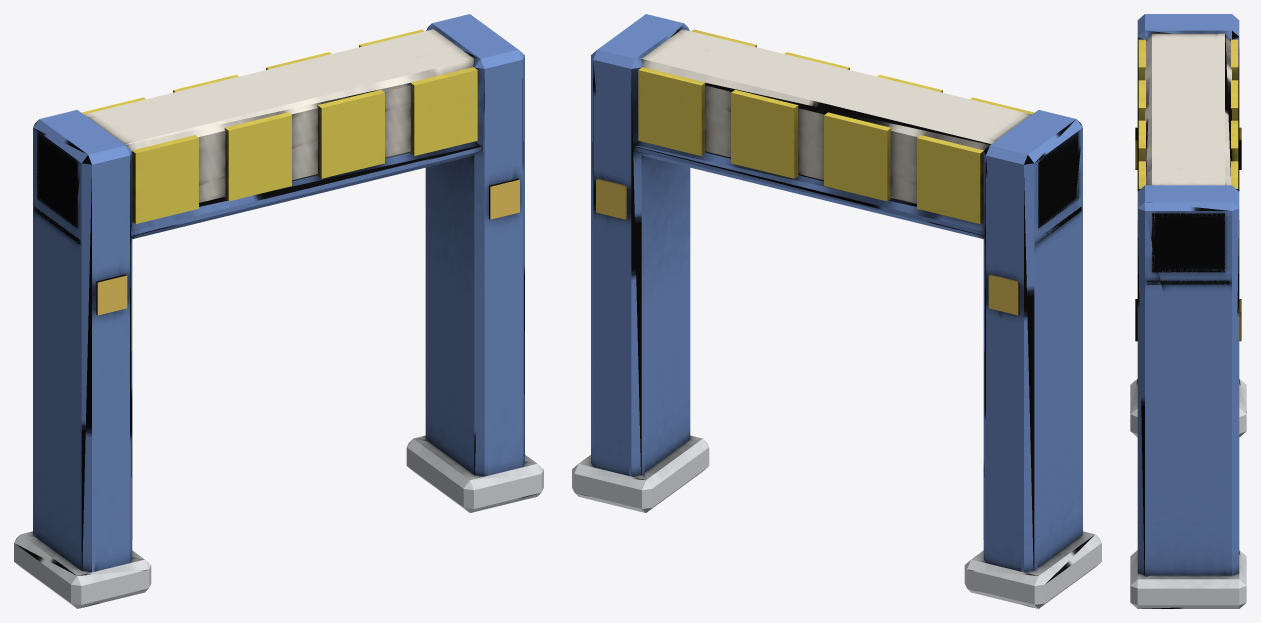
The model's file is slide_gate.obj.
3 views of the same model, side by side, from view 1: azimuth 30°, elevation 25°; view 2: azimuth 150°, elevation 25°; view 3: azimuth 270°, elevation 25° (orthographic). The views are drawn at different scales.
Parts seen in each view (by area): view 1: post_l, post_r, crossbar, crossbar_lip, base_r, base_l, chevron_3_f, chevron_1_f, chevron_2_f, chevron_0_f, post_light_l, post_light_r; view 2: post_l, post_r, crossbar, crossbar_lip, base_r, base_l, chevron_3_b, chevron_1_b, chevron_2_b, chevron_0_b, post_light_l, post_light_r; view 3: post_r, crossbar, base_r, post_l, base_l, crossbar_lip, chevron_0_b, chevron_0_f, chevron_2_b, chevron_2_f, chevron_1_b, chevron_1_f (+4 smaller).
Boxes of the visible parts, <box> form: post_l: <box>33,110,132,572</box>; post_r: <box>425,14,524,476</box>; crossbar: <box>37,29,474,228</box>; crossbar_lip: <box>34,141,481,244</box>; base_r: <box>406,435,543,512</box>; base_l: <box>14,531,151,608</box>; chevron_3_f: <box>410,67,477,155</box>; chevron_1_f: <box>224,112,291,201</box>; chevron_2_f: <box>317,89,384,178</box>; chevron_0_f: <box>132,135,198,223</box>; post_light_l: <box>96,274,127,315</box>; post_light_r: <box>489,178,519,219</box>; post_l: <box>983,110,1082,572</box>; post_r: <box>591,14,690,476</box>; crossbar: <box>641,29,1078,228</box>; crossbar_lip: <box>634,141,1081,238</box>; base_r: <box>572,435,709,512</box>; base_l: <box>964,531,1101,608</box>; chevron_3_b: <box>638,67,705,155</box>; chevron_1_b: <box>824,112,891,201</box>; chevron_2_b: <box>731,89,798,178</box>; chevron_0_b: <box>917,135,983,223</box>; post_light_l: <box>988,274,1019,315</box>; post_light_r: <box>596,178,626,219</box>; post_r: <box>1137,185,1239,575</box>; crossbar: <box>1145,33,1231,272</box>; base_r: <box>1130,550,1246,608</box>; post_l: <box>1137,14,1239,191</box>; base_l: <box>1130,379,1246,437</box>; crossbar_lip: <box>1147,280,1229,284</box>; chevron_0_b: <box>1231,39,1238,80</box>; chevron_0_f: <box>1138,39,1145,80</box>; chevron_2_b: <box>1231,120,1238,161</box>; chevron_2_f: <box>1138,120,1145,161</box>; chevron_1_b: <box>1231,80,1238,120</box>; chevron_1_f: <box>1138,80,1145,120</box>.
Bounding box in the file's own units: 2.1 × 1.9 × 0.5.
Materials: 1 (1 with a texture image).
